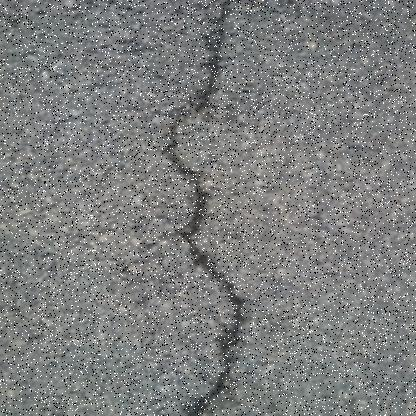Cracks: (143, 0, 270, 415)
